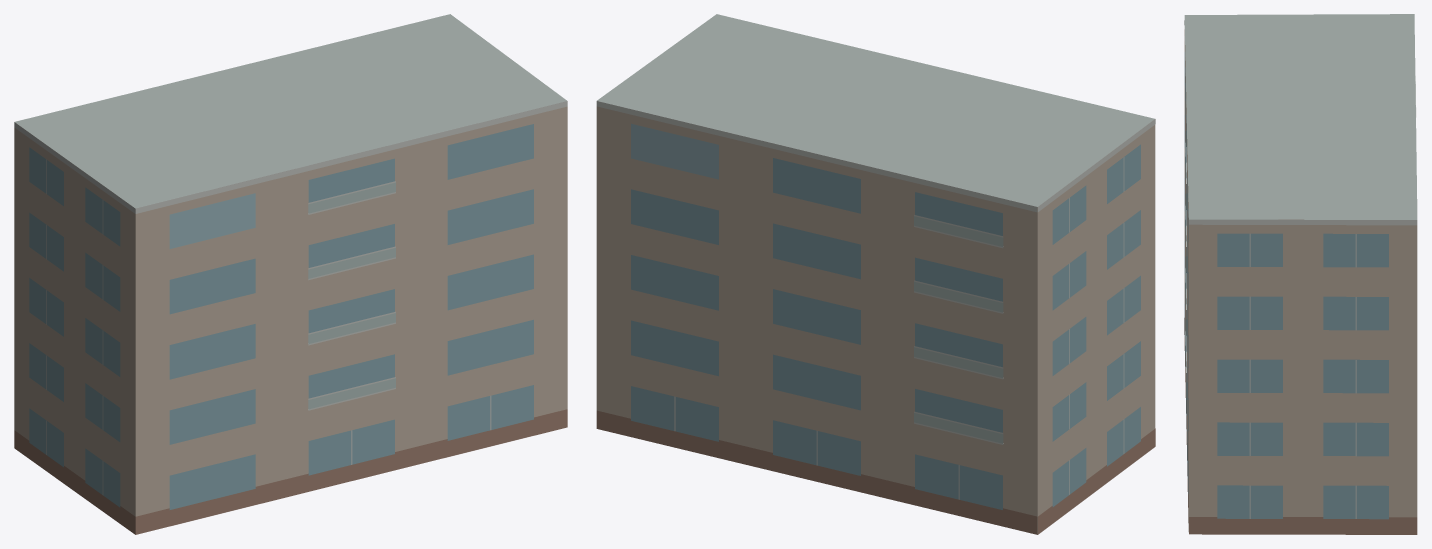
Rendered from survey-upis-32963437.glb.
3 views of the same model, side by side, from view 1: azimuth 30°, elevation 25°; view 2: azimuth 150°, elevation 25°; view 3: azimuth 270°, elevation 25° (orthographic). The views are drawn at different scales.
Visible parts, largest first — view 1: survey-upis-32963437.tmp; view 2: survey-upis-32963437.tmp; view 3: survey-upis-32963437.tmp.
Part boxes in pixels (x1,y1,x2,y2): survey-upis-32963437.tmp: (14, 14, 567, 534); survey-upis-32963437.tmp: (596, 14, 1155, 534); survey-upis-32963437.tmp: (1184, 14, 1417, 534).
Bounding box in the file's own units: 20.5 × 14.6 × 9.8.
